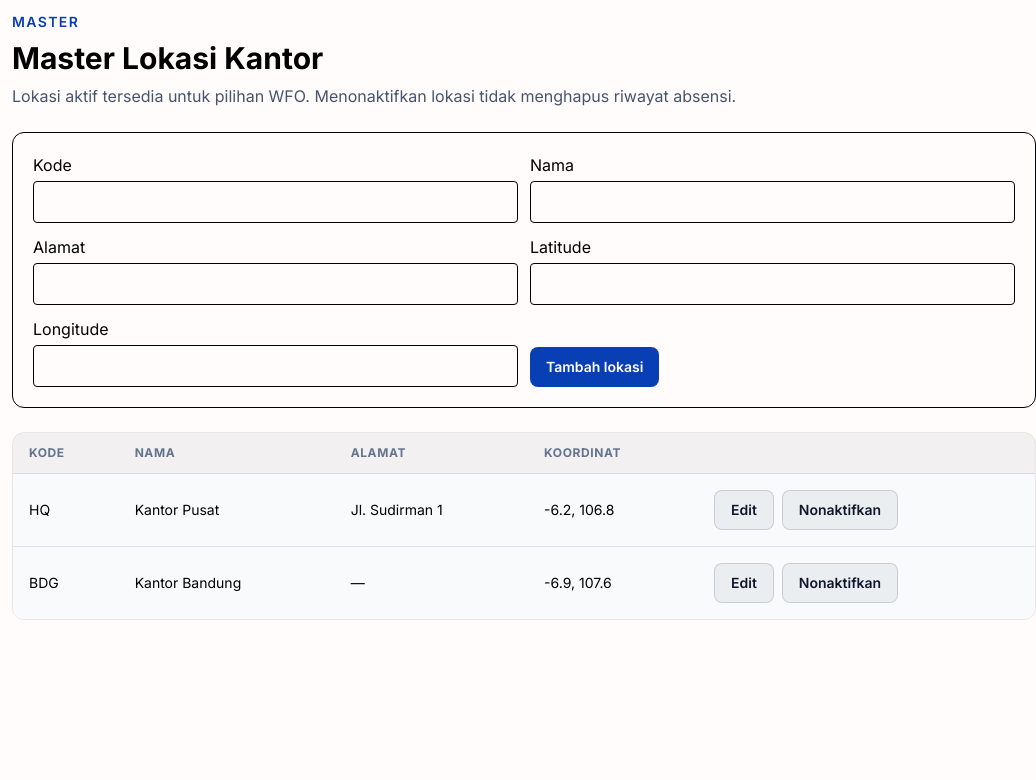
Test case: OfficeLocationsPage › surfaces a save error without losing the form
Type "HQ" into the field labelled "Kode" at (276, 202), box x1=33 y1=181 x2=518 y2=223
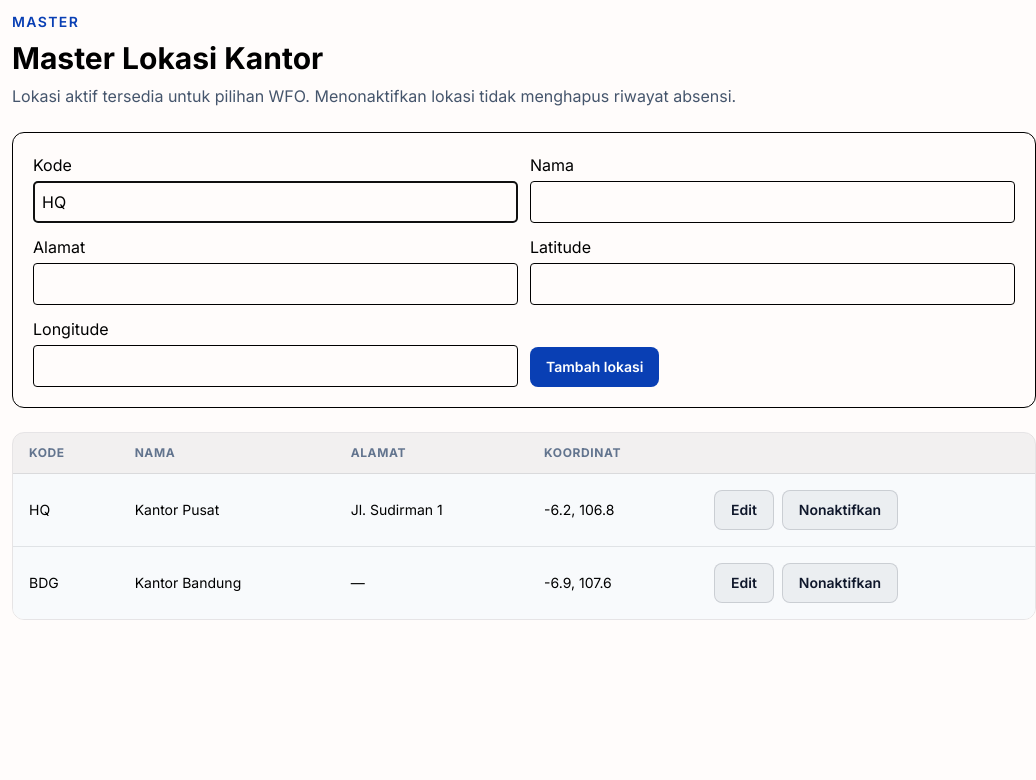
Type "Duplikat" into the field labelled "Nama" at (772, 202), box x1=530 y1=181 x2=1015 y2=223
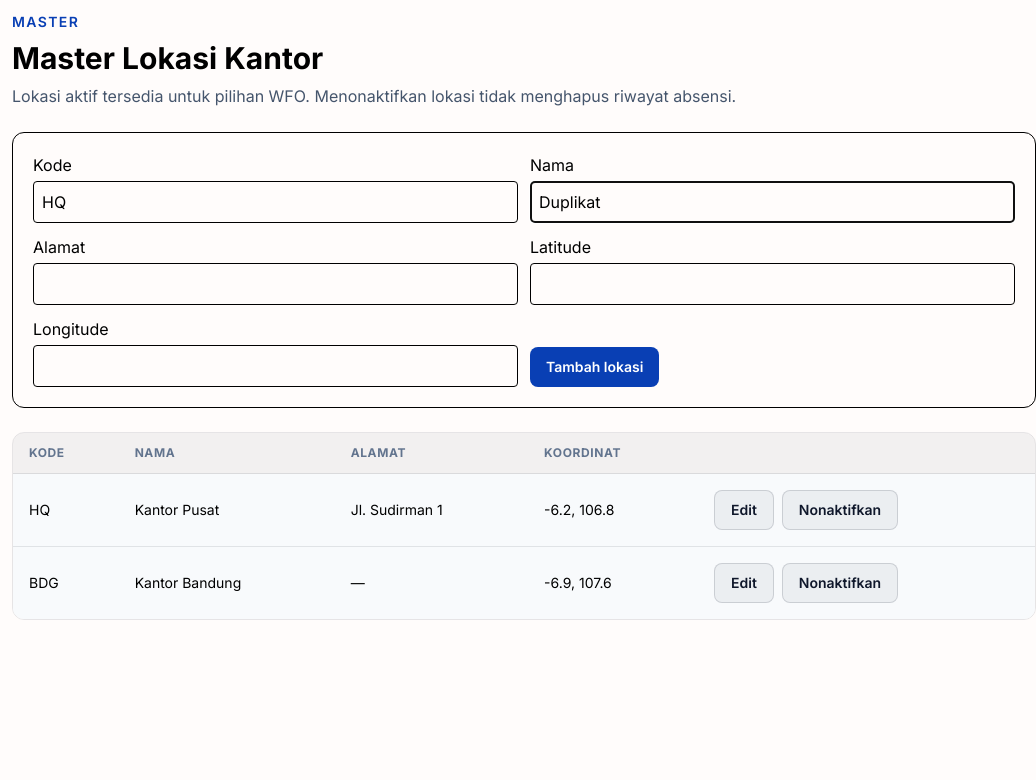
Type "-6.2" into the number field labelled "Latitude" at (772, 284), box x1=530 y1=263 x2=1015 y2=305
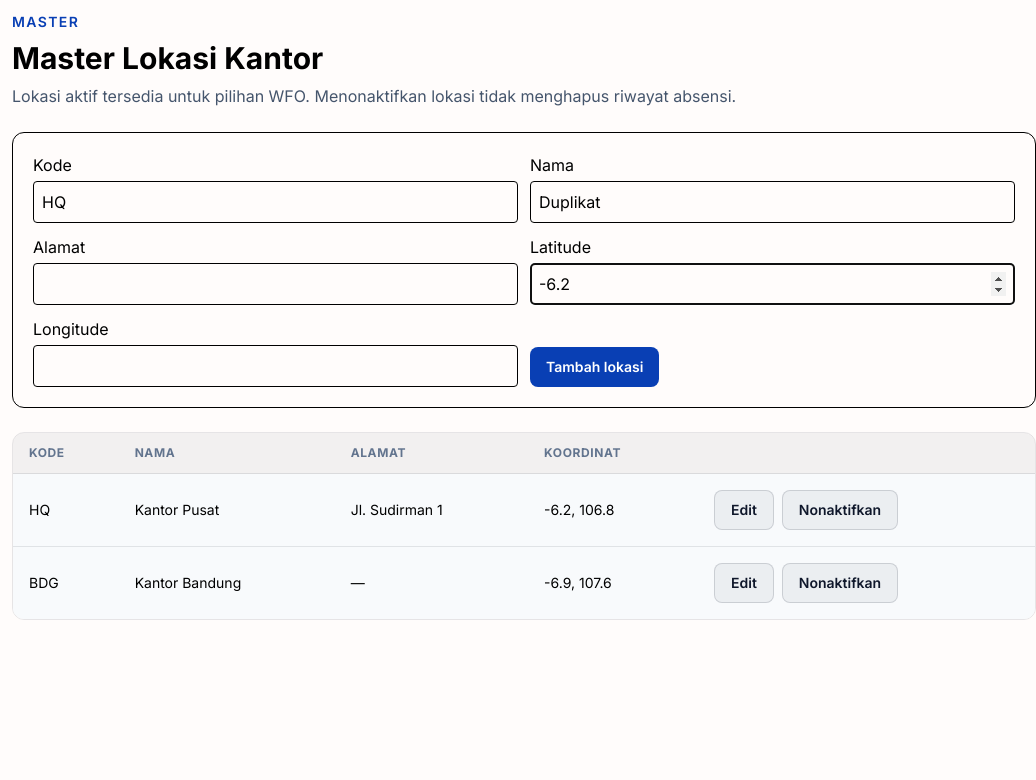
Type "106.8" into the number field labelled "Longitude" at (276, 366), box x1=33 y1=345 x2=518 y2=387
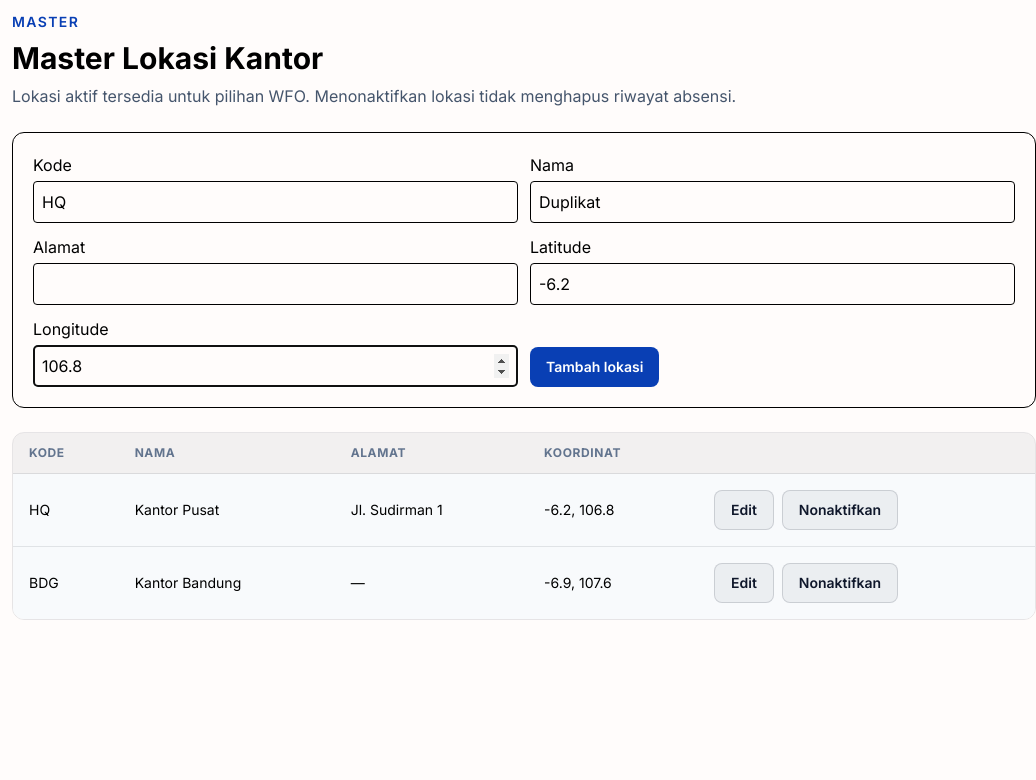
Click the button "Tambah lokasi" at (595, 367), box x1=530 y1=347 x2=659 y2=387
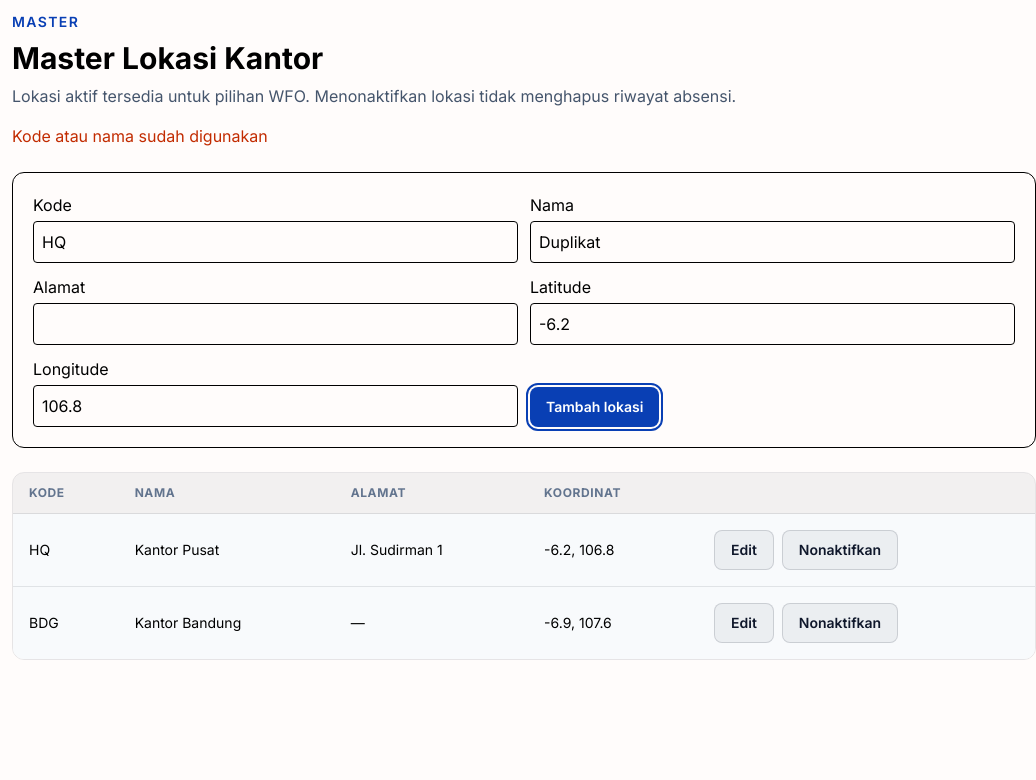
Check: the message reads "Kode atau nama sudah digunakan", box x1=12 y1=126 x2=268 y2=146
